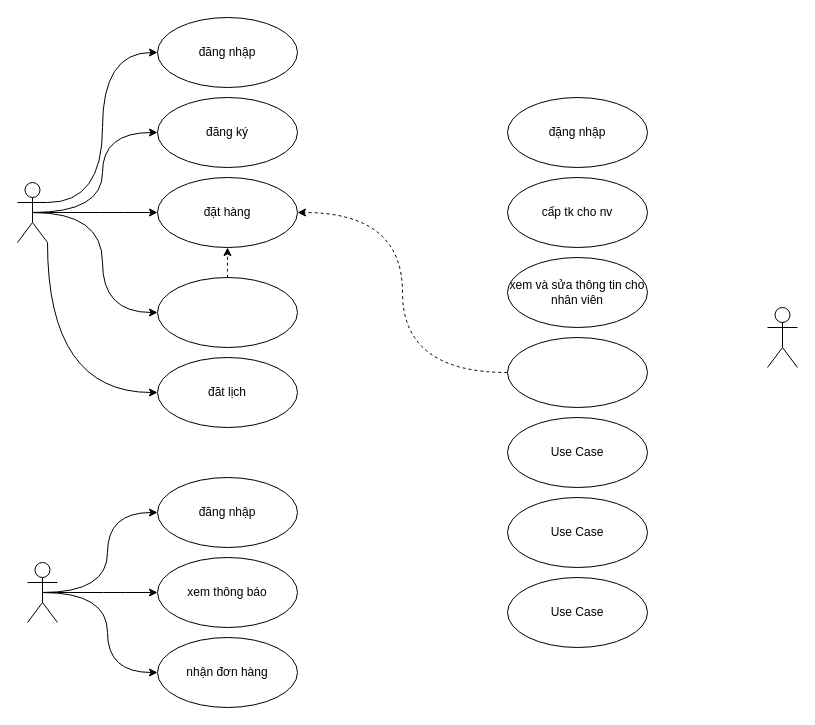
The diagram is 815 pixels wide and 725 high, and some of its shapes have lost their labels. The shapes that lost their labels are listed below. From the top down, each one's centre as x and y in pixels, then its label:
point 32,212: KH
point 227,312: thanh toán
point 782,337: QL
point 577,372: xem và xác nhận đơn hàng
point 42,592: NV
